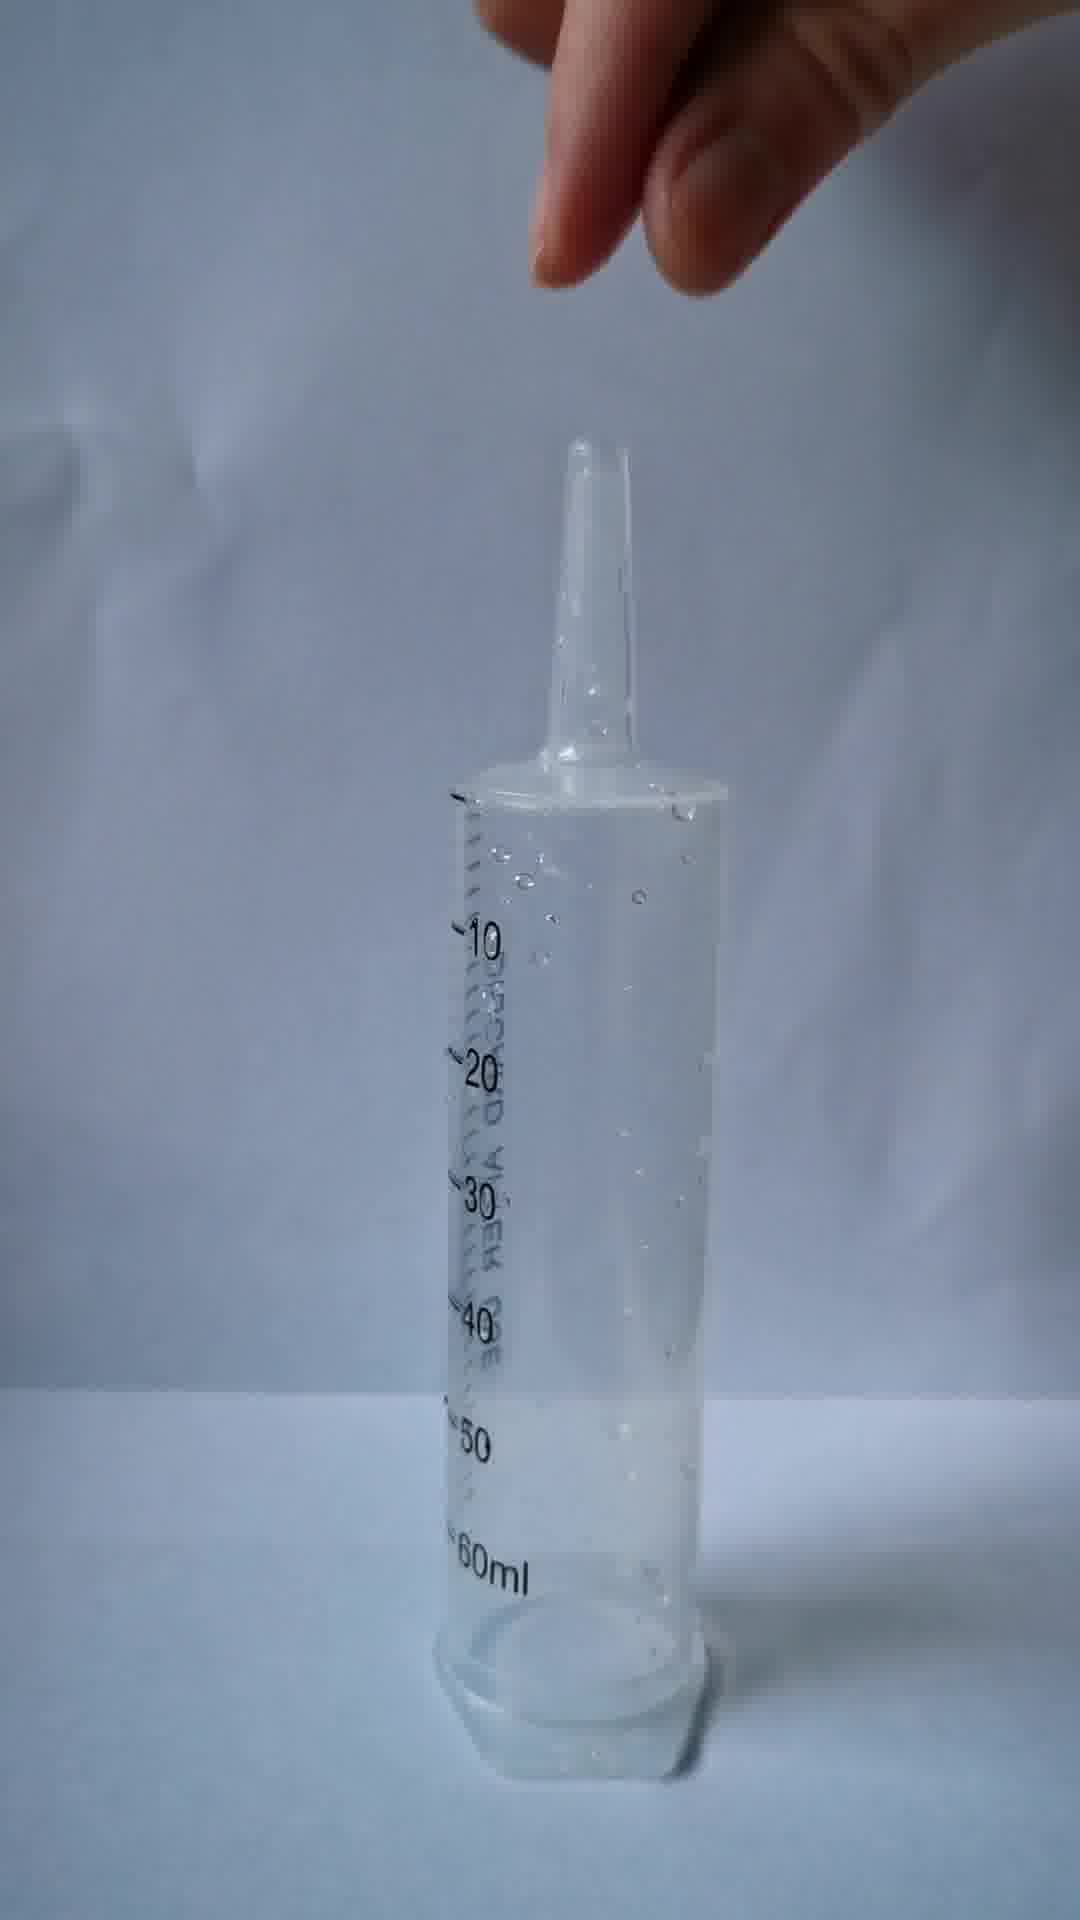syringe: (427, 433, 736, 1793)
